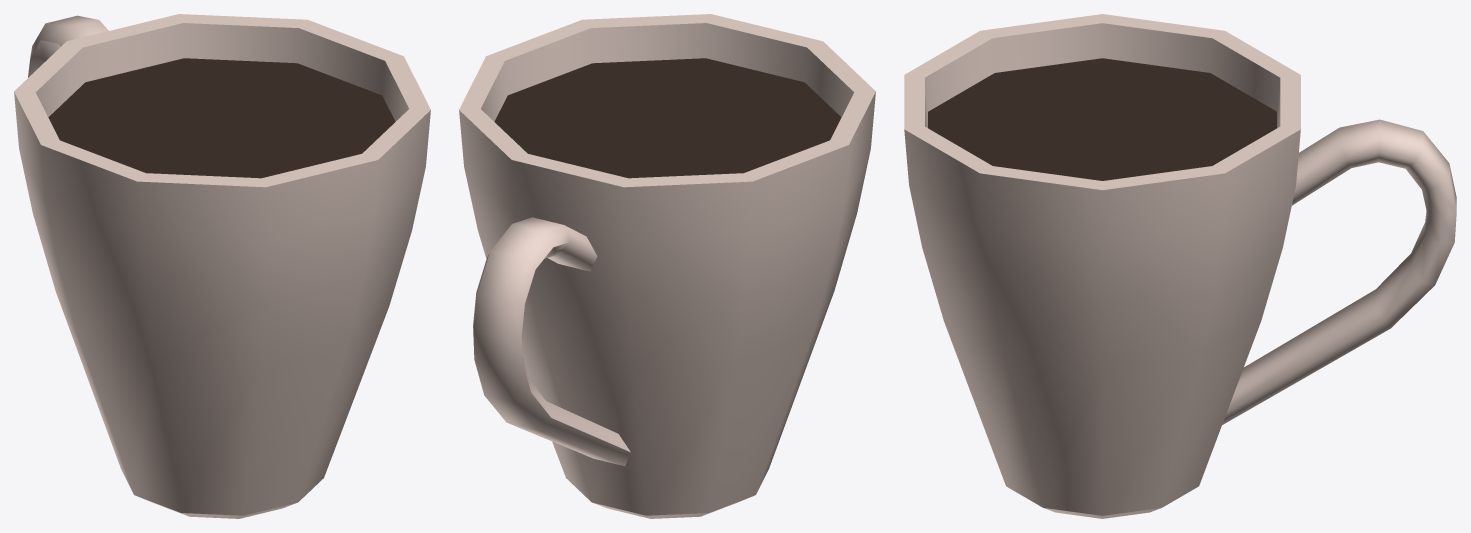
Rendered from CoffeeMug_01.fbx.
The picture shows the model from 3 angles, left to right: view 1: azimuth 30°, elevation 25°; view 2: azimuth 150°, elevation 25°; view 3: azimuth 270°, elevation 25°; orthographic projection.
Visible parts, largest first — view 1: CoffeeMug_01; view 2: CoffeeMug_01; view 3: CoffeeMug_01.
Boxes of the visible parts, x1,y1,x2,y2 form: CoffeeMug_01: [14, 14, 430, 518]; CoffeeMug_01: [459, 14, 875, 518]; CoffeeMug_01: [904, 14, 1456, 518].
Bounding box in the file's own units: 0.1119 × 0.1134 × 0.1483.
